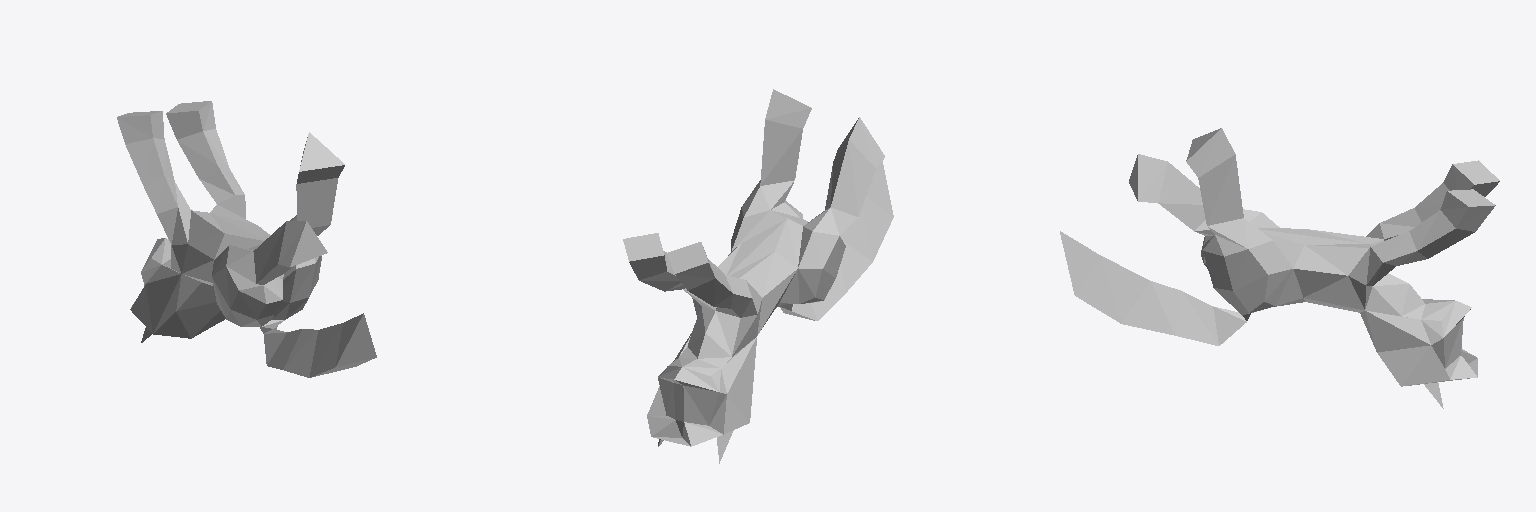
Rendered from PONY_000033.obj.
The picture shows the model from 3 angles: view 1: azimuth 30°, elevation 25°; view 2: azimuth 150°, elevation 25°; view 3: azimuth 270°, elevation 25°; orthographic projection.
Visible parts, largest first — view 1: pony; view 2: pony; view 3: pony.
Part boxes in pixels (left/top/right/bottom): pony: left=117, top=101, right=376, bottom=377; pony: left=623, top=89, right=893, bottom=463; pony: left=1060, top=128, right=1499, bottom=408.
Bounding box in the file's own units: 3.4 × 8.96 × 12.82.